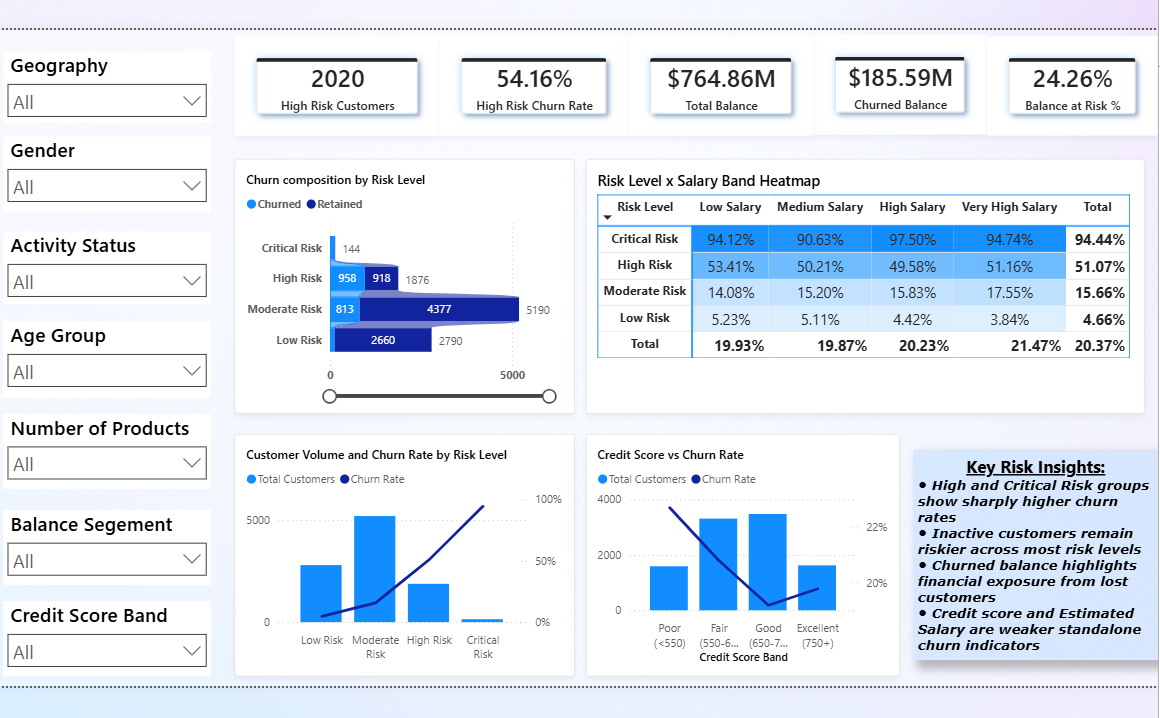

Layout of this report page (visuals, bound fields, positions):
{"tool":"powerbi","page":{"name":"Risk Analysis ","canvas":[1280,720],"ordinal":2},"visuals":[{"type":"slicer","fields":{"Values":["bank_churn_cleaned.Geography"]},"box":[12.8,22.8,228.1,78.4],"z":0},{"type":"slicer","fields":{"Values":["bank_churn_cleaned.Gender"]},"box":[12.8,116.9,228.1,84.1],"z":1000},{"type":"slicer","fields":{"Values":["bank_churn_cleaned.Activity Status"]},"box":[12.8,220.9,228.1,79.8],"z":2000},{"type":"slicer","fields":{"Values":["bank_churn_cleaned.AgeGroup"]},"box":[12.8,319.3,228.1,84.1],"z":3000},{"type":"slicer","fields":{"Values":["bank_churn_cleaned.NumOfProducts"]},"box":[12.8,421.9,228.1,82.7],"z":4000},{"type":"slicer","fields":{"Values":["bank_churn_cleaned.Balance Segment"]},"box":[12.8,527.4,228.1,82.7],"z":5000},{"type":"slicer","fields":{"Values":["bank_churn_cleaned.Credit Score Band"]},"box":[12.8,627.2,228.1,82.7],"z":6000},{"type":"cardVisual","fields":{"Data":["bank_churn_cleaned.High Risk Customers"]},"box":[266.2,6.9,225,109.8],"z":7000},{"type":"cardVisual","fields":{"Data":["bank_churn_cleaned.High Risk Churn Rate"]},"box":[491.3,6.9,207.2,109.8],"z":8000},{"type":"cardVisual","fields":{"Data":["bank_churn_cleaned.Churned Balance"]},"box":[901.5,6,190.7,109.8],"z":9000},{"type":"cardVisual","fields":{"Data":["bank_churn_cleaned.Balance at Risk %"]},"box":[1092.3,6.9,188,109.8],"z":10000},{"type":"lineClusteredColumnComboChart","title":"Customer Volume and Churn Rate by Risk Level","fields":{"Category":["bank_churn_cleaned.Risk Level"],"Y":["bank_churn_cleaned.Total Customers"],"Y2":["bank_churn_cleaned.Churn Rate"]},"box":[266.2,443.2,373.2,266.2],"z":11000},{"type":"barChart","title":"Churn composition by Risk Level","fields":{"Category":["bank_churn_cleaned.Risk Level"],"Y":["bank_churn_cleaned.Total Customers"],"Series":["bank_churn_cleaned.Churn Status"]},"box":[266.2,141.3,373.2,279.9],"z":12000},{"type":"lineClusteredColumnComboChart","title":"Credit Score vs Churn Rate","fields":{"Category":["bank_churn_cleaned.Credit Score Band"],"Y":["bank_churn_cleaned.Total Customers"],"Y2":["bank_churn_cleaned.Churn Rate"]},"box":[651.8,443.2,344.4,266.2],"z":13000},{"type":"pivotTable","title":"Risk Level x Salary Band Heatmap","fields":{"Rows":["bank_churn_cleaned.Risk Level"],"Values":["bank_churn_cleaned.Churn Rate"],"Columns":["bank_churn_cleaned.Salary Band"]},"box":[651.8,141.3,613.4,279.9],"z":14000},{"type":"textbox","box":[1011.3,461.1,269,230.5],"z":14001},{"type":"cardVisual","fields":{"Data":["bank_churn_cleaned.Total Balance"]},"box":[698.5,6.9,203.1,109.8],"z":14002}]}

Visuals, with their boxes on the page's 1280x720 design canvas (x1, y1, x2, y2). These are canvas units, not pixel positions in the 1160x718 screenshot, which may show the page scaled, cropped or inside an application window:
slicer - bank_churn_cleaned.Geography: rect(13, 23, 241, 101)
slicer - bank_churn_cleaned.Gender: rect(13, 117, 241, 201)
slicer - bank_churn_cleaned.Activity Status: rect(13, 221, 241, 301)
slicer - bank_churn_cleaned.AgeGroup: rect(13, 319, 241, 403)
slicer - bank_churn_cleaned.NumOfProducts: rect(13, 422, 241, 505)
slicer - bank_churn_cleaned.Balance Segment: rect(13, 527, 241, 610)
slicer - bank_churn_cleaned.Credit Score Band: rect(13, 627, 241, 710)
cardVisual - bank_churn_cleaned.High Risk Customers: rect(266, 7, 491, 117)
cardVisual - bank_churn_cleaned.High Risk Churn Rate: rect(491, 7, 698, 117)
cardVisual - bank_churn_cleaned.Churned Balance: rect(902, 6, 1092, 116)
cardVisual - bank_churn_cleaned.Balance at Risk %: rect(1092, 7, 1280, 117)
"Customer Volume and Churn Rate by Risk Level" lineClusteredColumnComboChart: rect(266, 443, 639, 709)
"Churn composition by Risk Level" barChart: rect(266, 141, 639, 421)
"Credit Score vs Churn Rate" lineClusteredColumnComboChart: rect(652, 443, 996, 709)
"Risk Level x Salary Band Heatmap" pivotTable: rect(652, 141, 1265, 421)
textbox: rect(1011, 461, 1280, 692)
cardVisual - bank_churn_cleaned.Total Balance: rect(698, 7, 902, 117)
